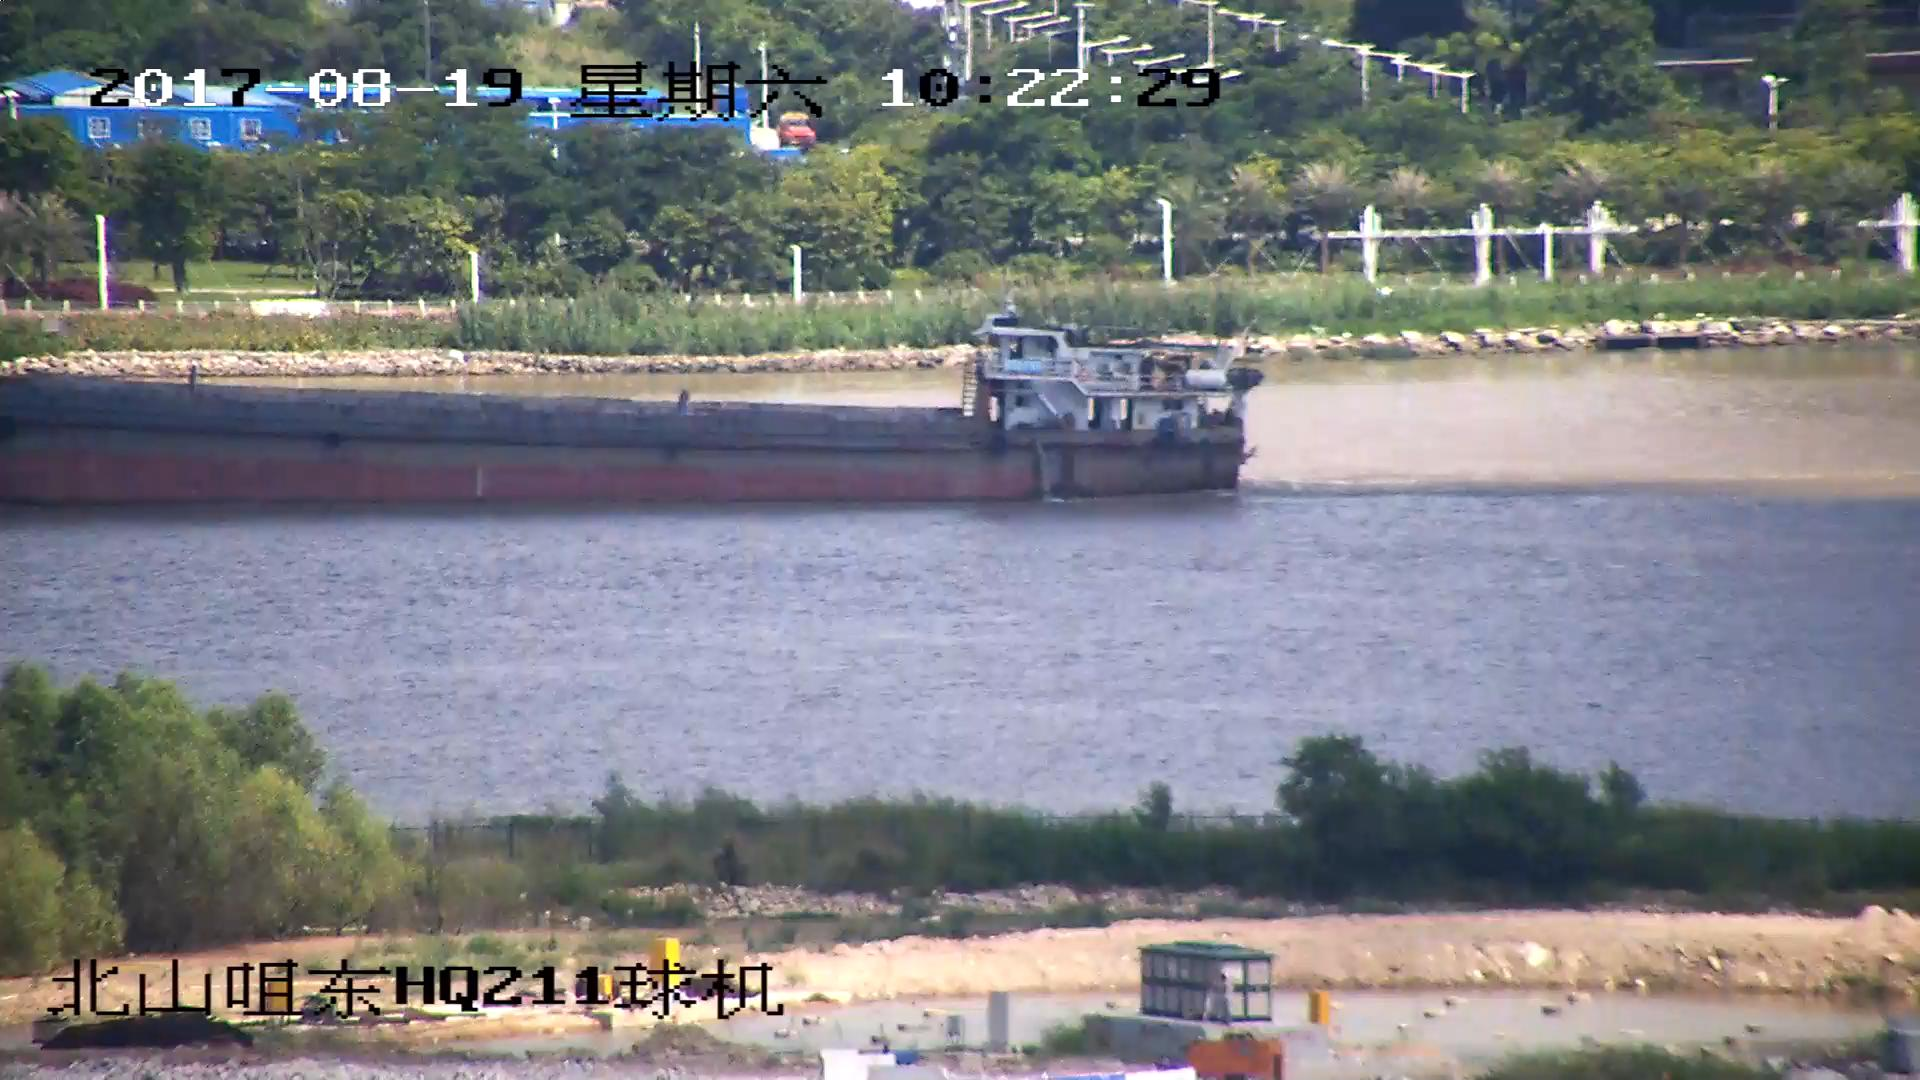bulk cargo carrier: (1, 307, 1254, 513)
